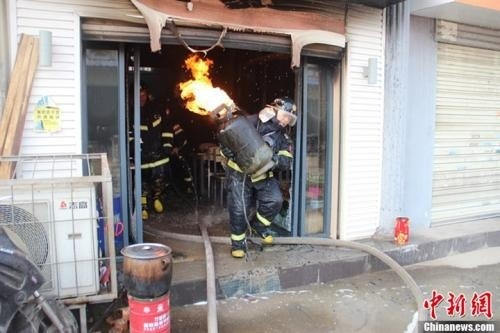fire: (177, 55, 237, 116)
